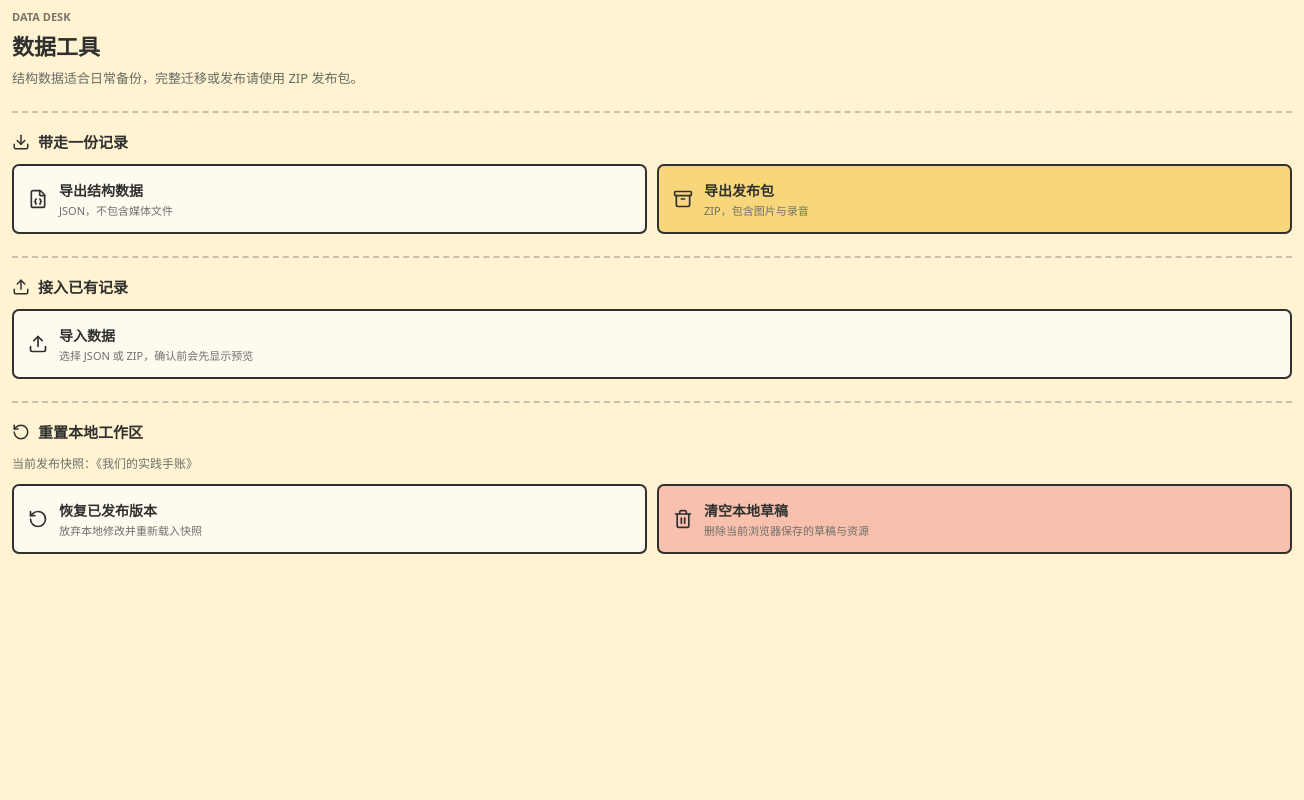
Test case: blocks ZIP publishing when a required asset is missing
Click the button "导出发布包 ZIP，包含图片与录音".
click(739, 190)  # box [657,164,1292,234]
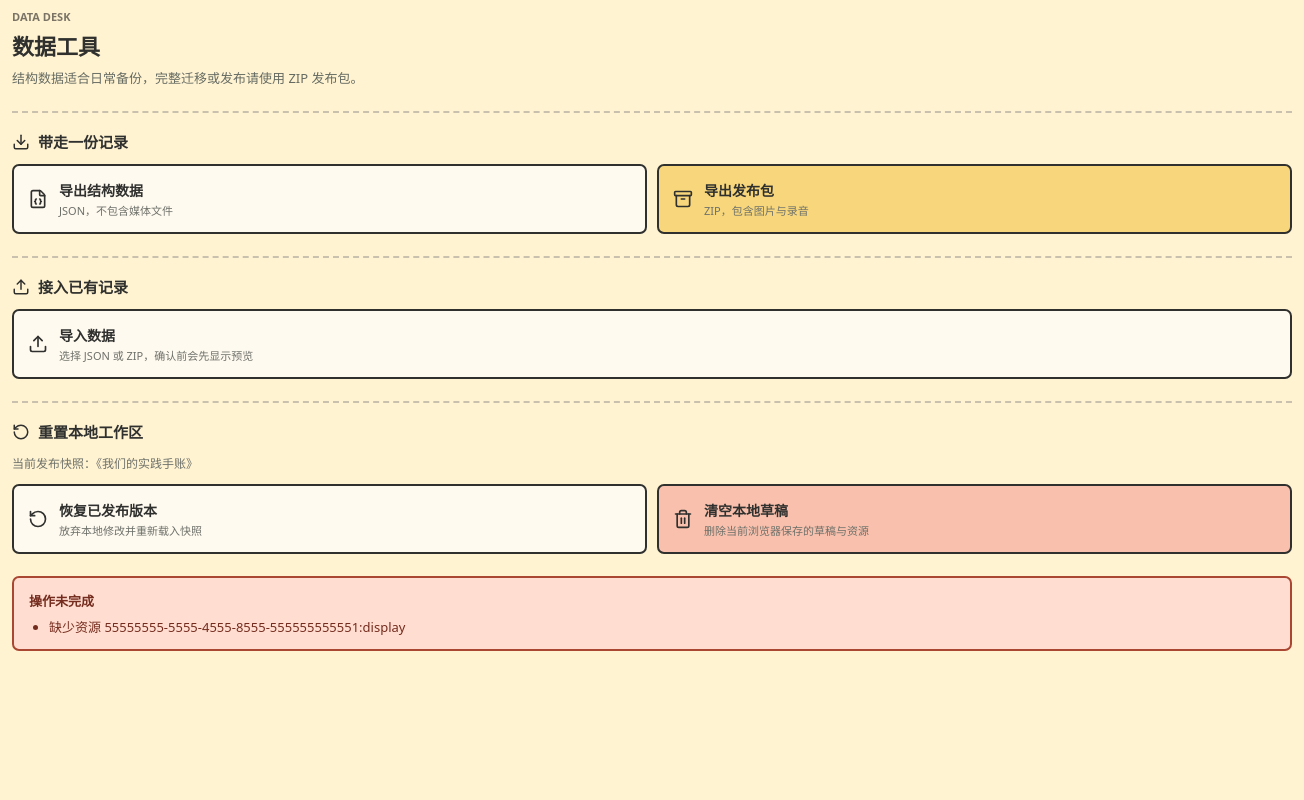
Check: the list item "缺少资源 55555555-5555-4555-8555-555555555551:display" is shown, box [49,618,405,636]
